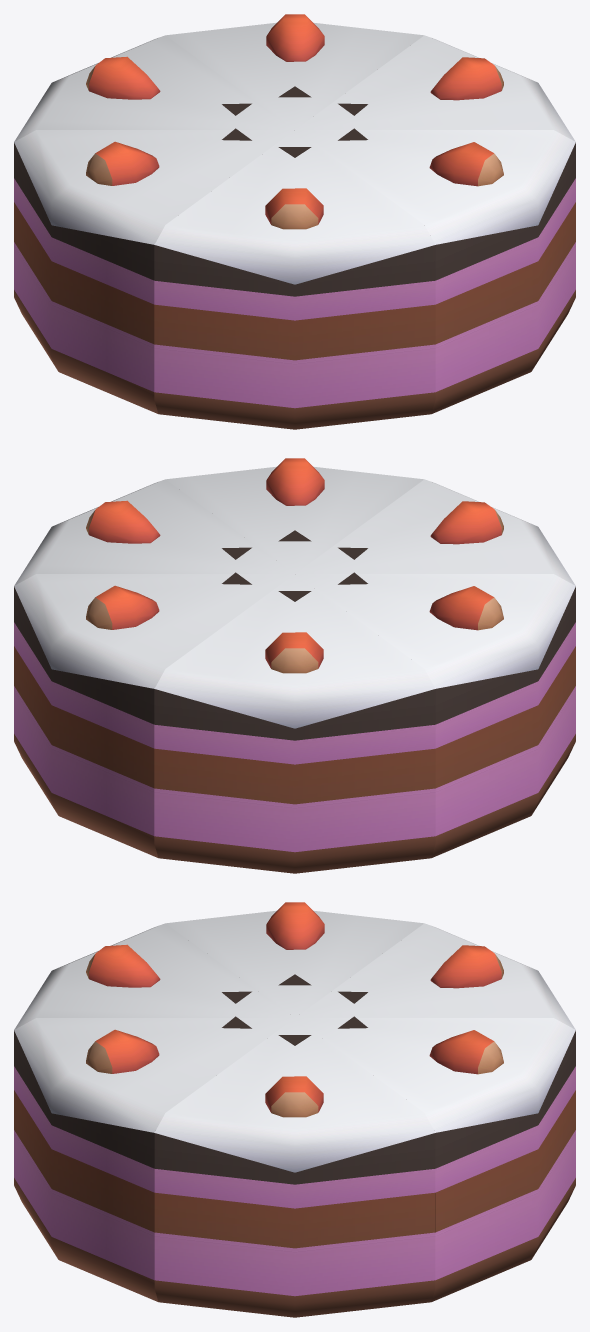
Rendered from tarta.glb.
3 views of the same model, one above another, from view 1: azimuth 30°, elevation 25°; view 2: azimuth 150°, elevation 25°; view 3: azimuth 270°, elevation 25° (orthographic).
Parts seen in each view (by area): view 1: slice (×6); view 2: slice (×6); view 3: slice (×6).
Boxes of the visible parts, left/top/right/bottom form: slice (×6): left=14, top=14, right=575, bottom=429; slice (×6): left=14, top=458, right=575, bottom=873; slice (×6): left=14, top=902, right=575, bottom=1317.
Bounding box in the file's own units: 0.6392 × 0.2731 × 0.6392.
1 material, 1 textured.
